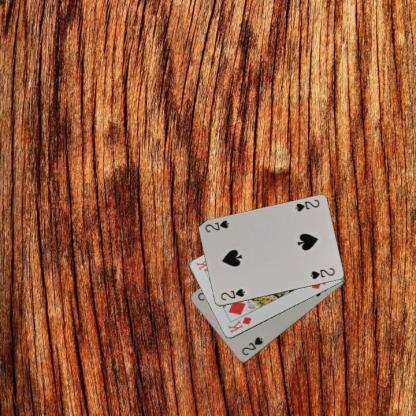2s: (239, 335, 264, 357), (217, 286, 246, 302), (292, 197, 321, 213)
Kd: (225, 314, 253, 334)
